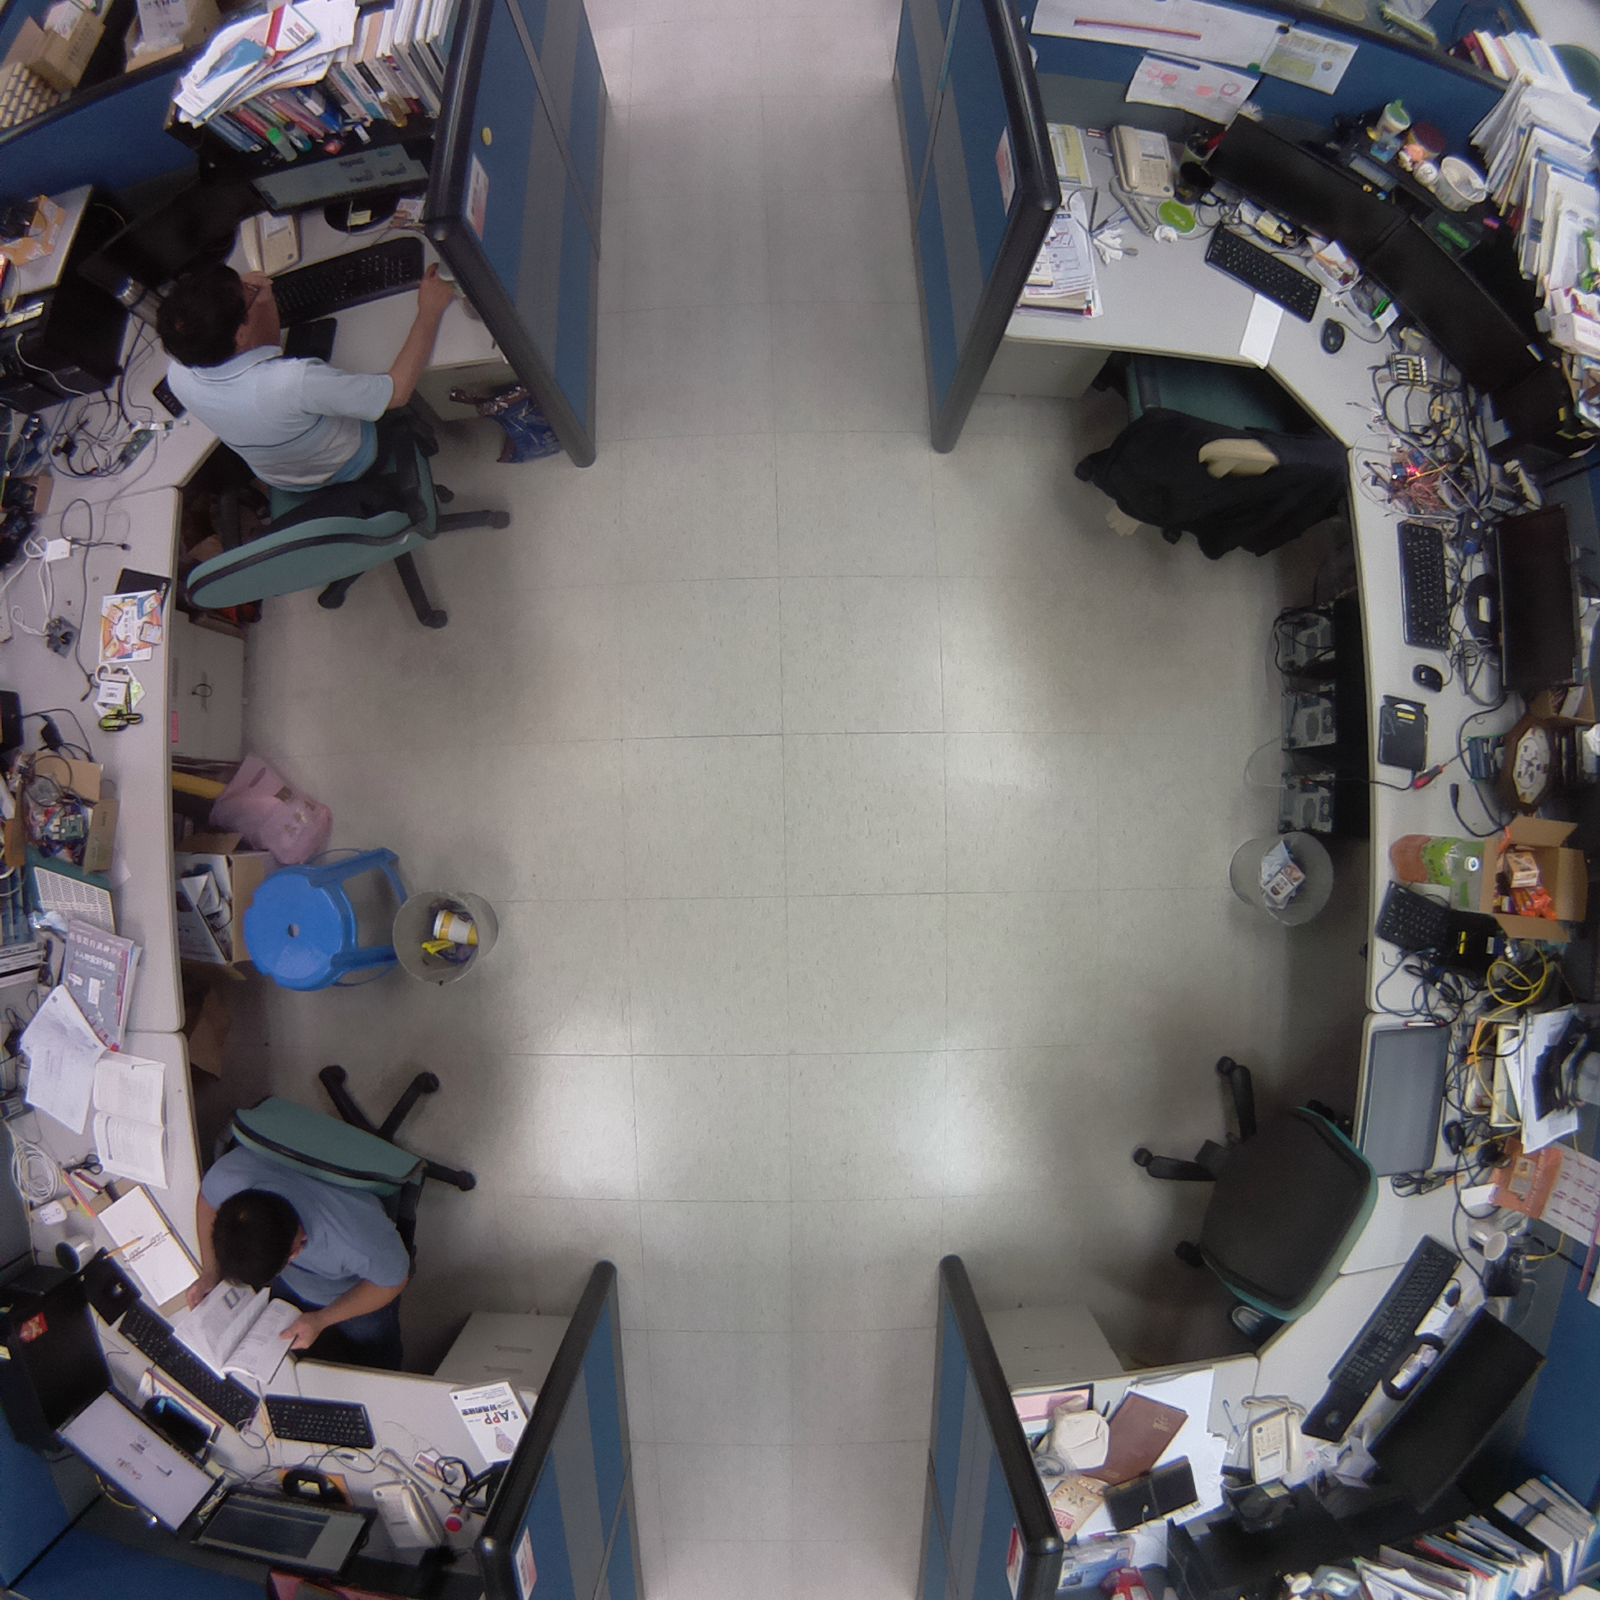chair: (1132, 1040, 1388, 1360), (1065, 342, 1360, 570)
head: (197, 1176, 321, 1296), (146, 254, 281, 363)
sitting: (150, 240, 524, 645), (179, 1050, 491, 1366)
